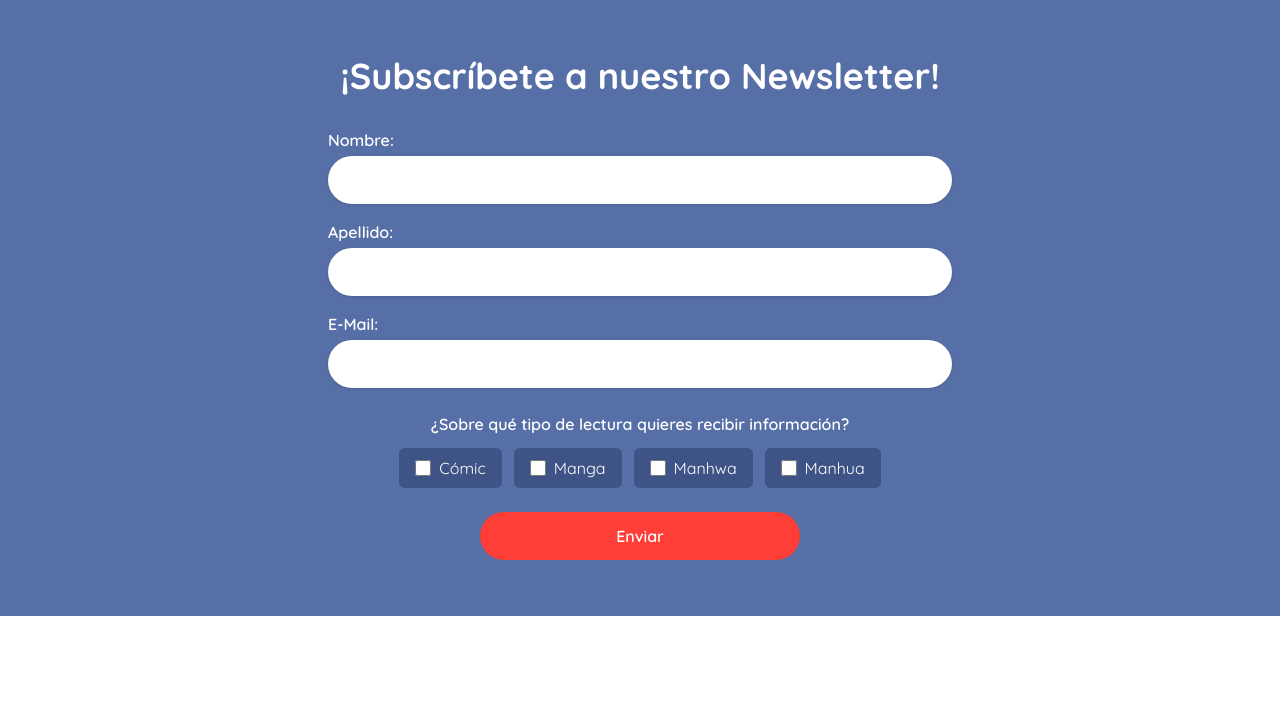
it: Newsletter › shows an error when submitting with an invalid email
Type "Ana" into the field labelled "Nombre:" at coordinates (640, 180), box [328,156,952,204]
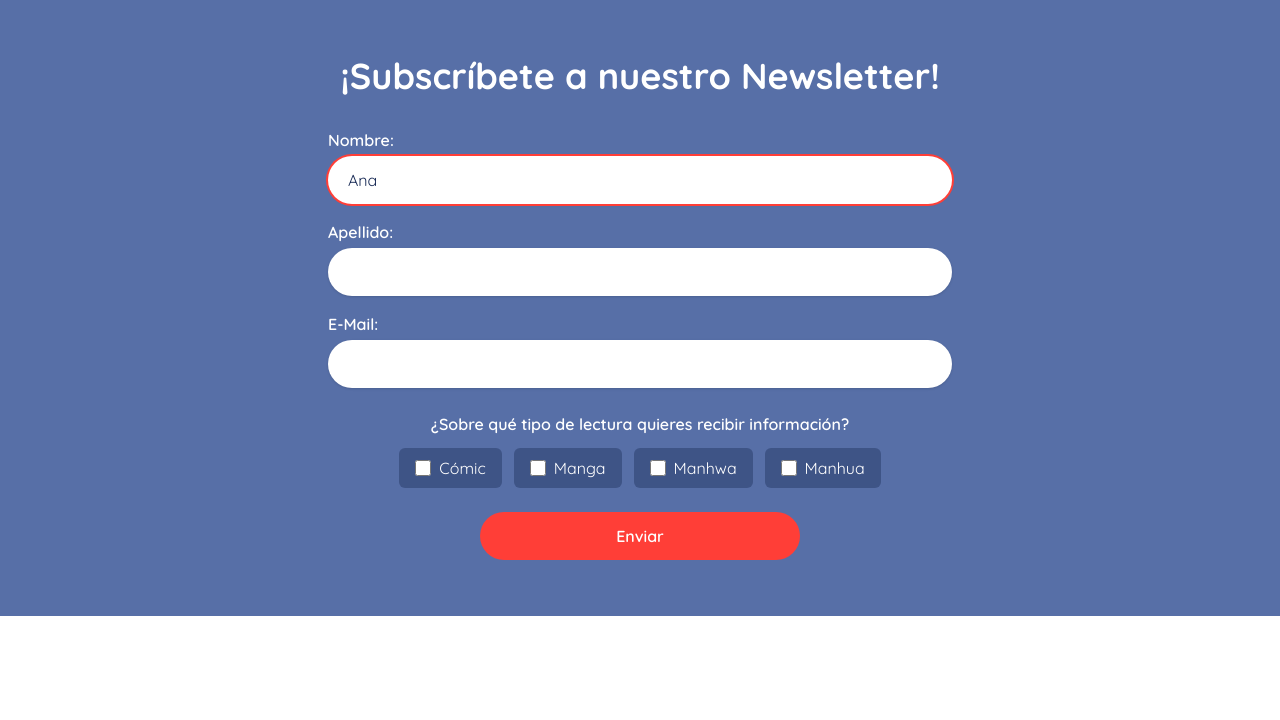
Type "not-an-email" into the field labelled "E-Mail:" at coordinates (640, 364), box [328,340,952,388]
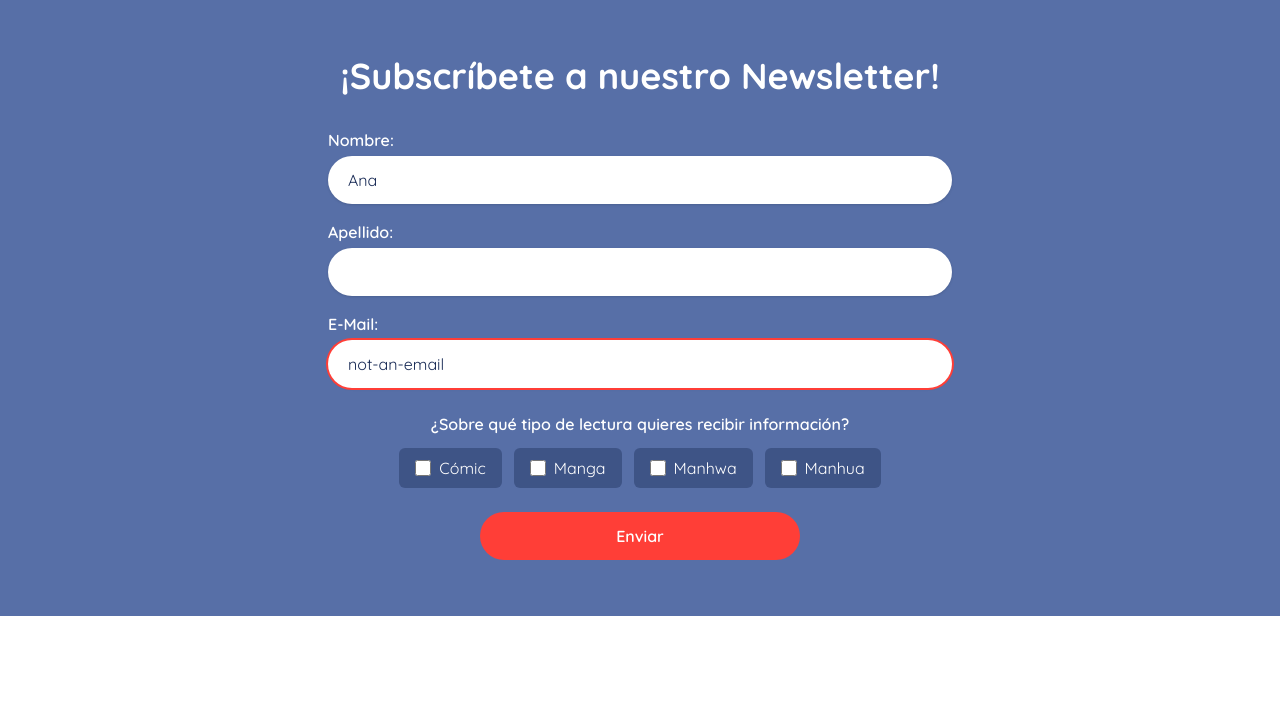
Click the button "Enviar" at coordinates (640, 536), box [480,512,800,560]
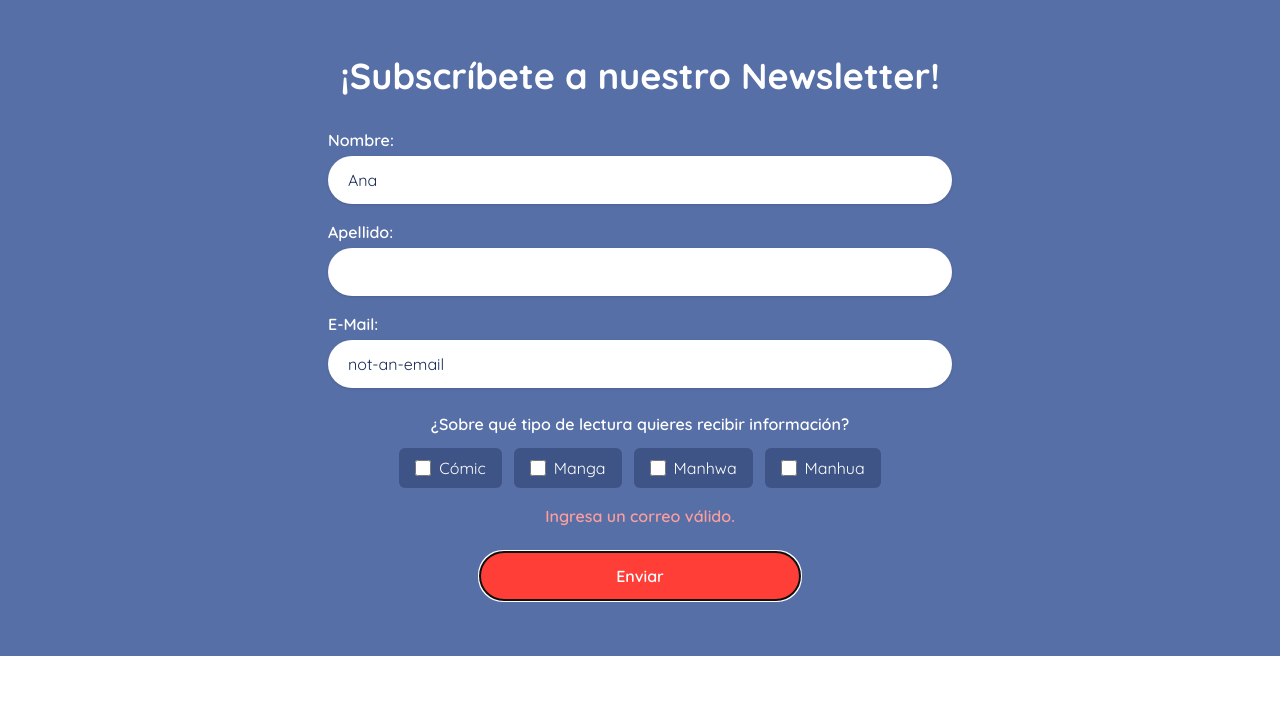
Expected: the text "Ingresa un correo válido." is shown, [545,506,735,526]
